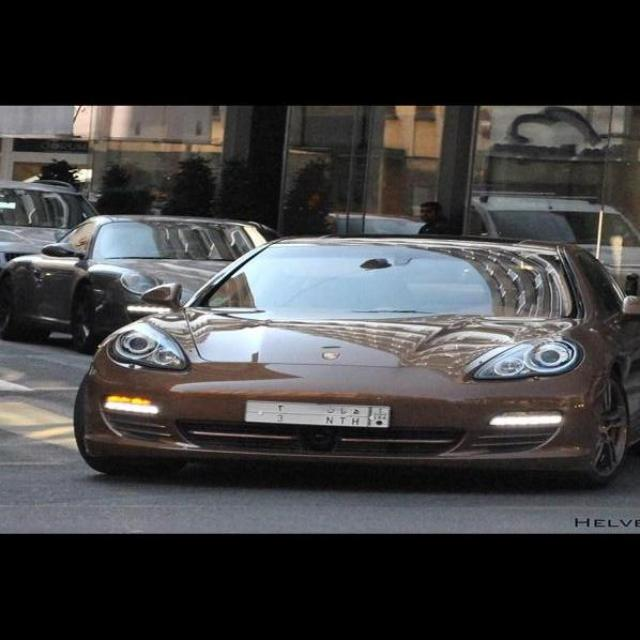license_plate: (243, 400, 389, 428)
